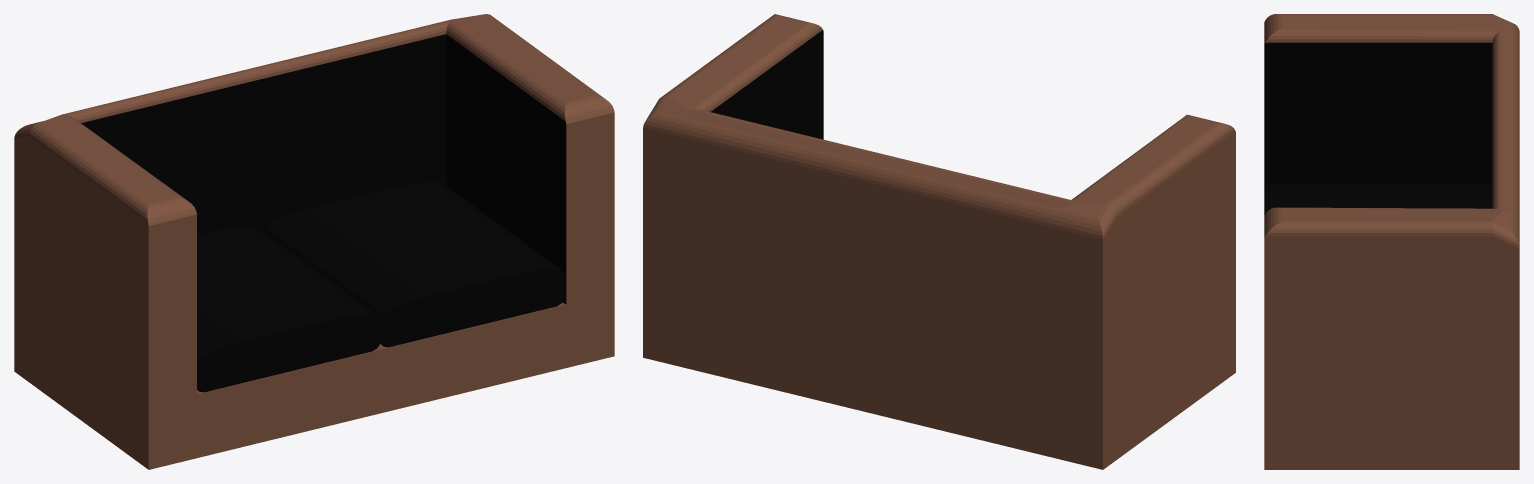
Rendered from Booth_Seating.fbx.
The picture shows the model from 3 angles, left to right: view 1: azimuth 30°, elevation 25°; view 2: azimuth 150°, elevation 25°; view 3: azimuth 270°, elevation 25°; orthographic projection. The views are drawn at different scales.
Visible parts, largest first — view 1: Booth_Seating; view 2: Booth_Seating; view 3: Booth_Seating.
Part boxes in pixels (x1,y1,x2,y2): Booth_Seating: (14, 14, 614, 469); Booth_Seating: (643, 14, 1235, 469); Booth_Seating: (1264, 14, 1519, 469).
Size of the model in its own units: 2 by 1.05 by 1.
